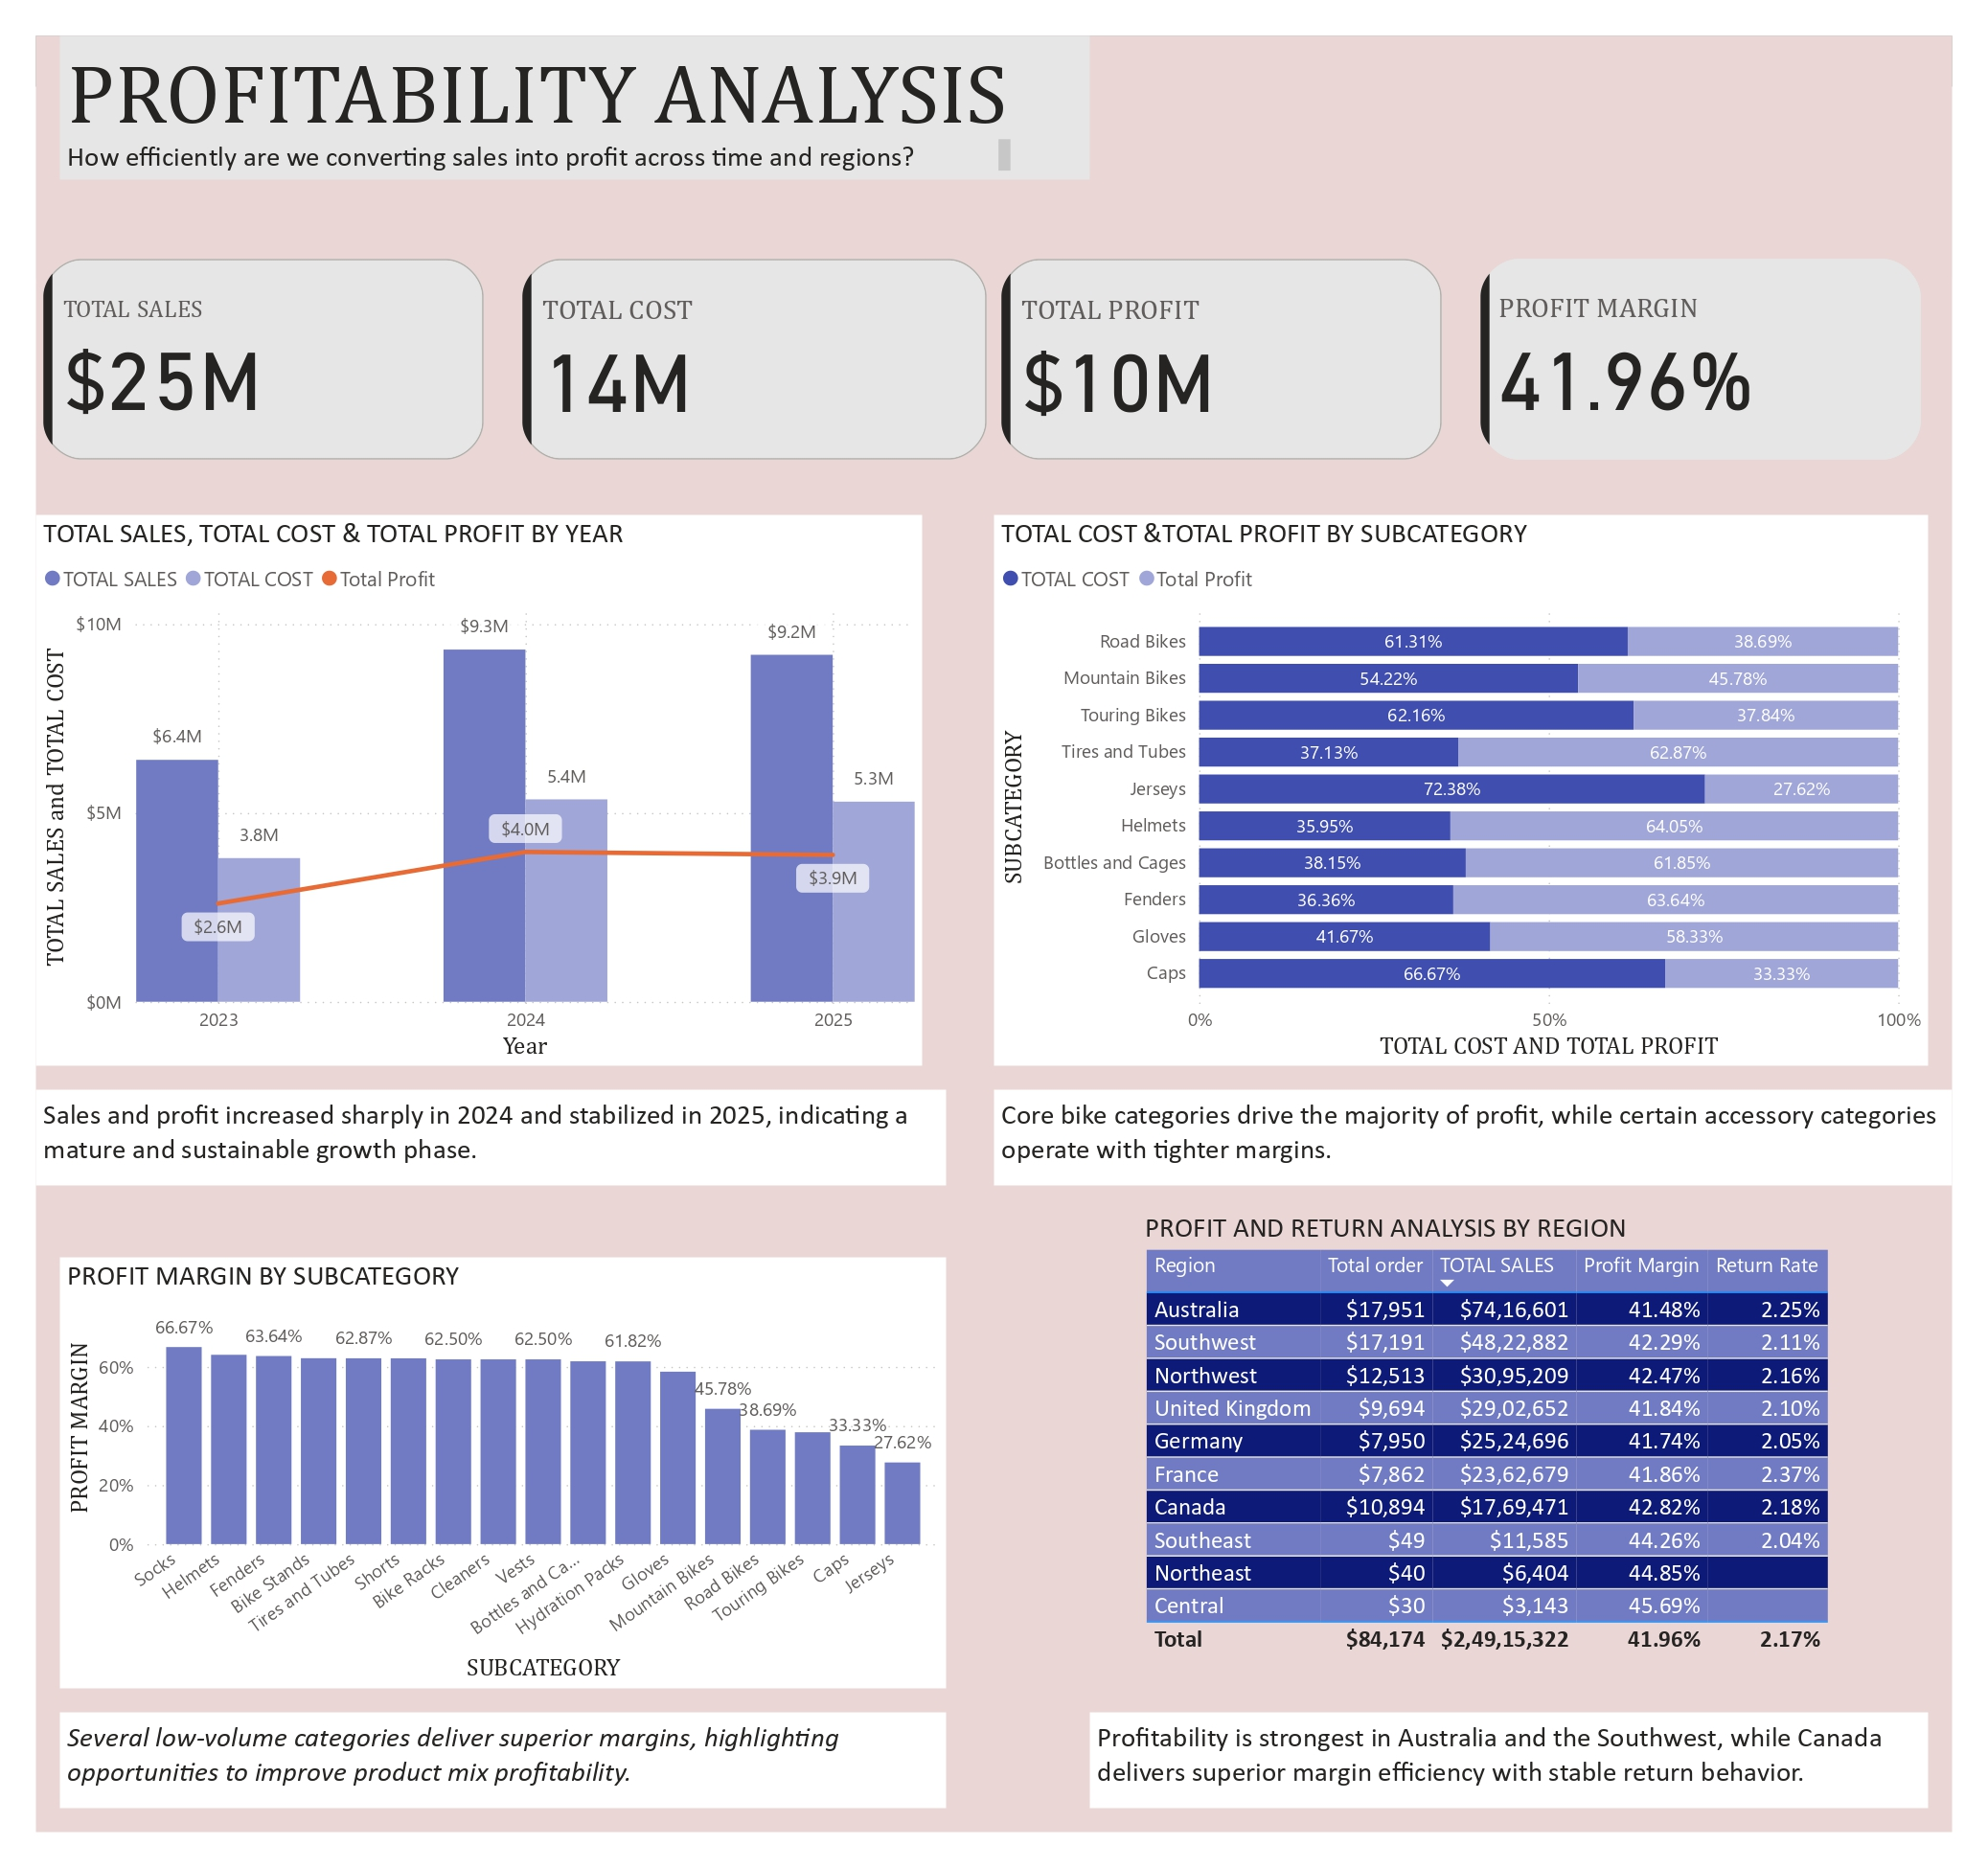

This screenshot's page, from the dashboard's own definition file:
{"tool":"powerbi","page":{"name":"Profitability Analysis","canvas":[1280,1200],"ordinal":5},"visuals":[{"type":"textbox","box":[16,0,688,96],"z":0},{"type":"cardVisual","fields":{"Data":["ALL MEASURES.Total Profit"]},"box":[640,144,304,144],"z":1000},{"type":"cardVisual","fields":{"Data":["ALL MEASURES.TOTAL COST"]},"box":[320,144,320,144],"z":2000},{"type":"cardVisual","fields":{"Data":["ALL MEASURES.TOTAL SALES"]},"box":[0,144,304,144],"z":3000},{"type":"cardVisual","fields":{"Data":["ALL MEASURES.Profit Margin"]},"box":[960,144,304,144],"z":4000},{"type":"lineClusteredColumnComboChart","title":"TOTAL SALES, TOTAL COST & TOTAL PROFIT BY YEAR","fields":{"Category":["Calendar Lookup (1) csv.Date.Variation.Date Hierarchy.Year"],"Y":["ALL MEASURES.TOTAL SALES","ALL MEASURES.TOTAL COST"],"Y2":["ALL MEASURES.Total Profit"]},"box":[0,320,592,368],"z":5000},{"type":"clusteredColumnChart","title":"PROFIT MARGIN BY SUBCATEGORY  ","fields":{"Y":["ALL MEASURES.Profit Margin"],"Category":["Product Subcategories Lookup.SubcategoryName"]},"box":[16,816,592,288],"z":6000},{"type":"hundredPercentStackedBarChart","title":"TOTAL COST &TOTAL PROFIT  BY SUBCATEGORY ","fields":{"Category":["Product Subcategories Lookup.SubcategoryName"],"Y":["ALL MEASURES.TOTAL COST","ALL MEASURES.Total Profit"]},"box":[640,320,624,368],"z":7000},{"type":"tableEx","title":"PROFIT AND RETURN ANALYSIS BY REGION","fields":{"Values":["Territory Lookup (1) csv.Region","ALL MEASURES.Total order","ALL MEASURES.TOTAL SALES","ALL MEASURES.Profit Margin","ALL MEASURES.Return Rate"]},"box":[736,784,496,336],"z":8000},{"type":"textbox","box":[0,704,608,64],"z":9000},{"type":"textbox","box":[640,704,640,64],"z":10000},{"type":"textbox","box":[16,1120,592,64],"z":11000},{"type":"textbox","box":[704,1120,560,64],"z":12000},{"type":"textbox","box":[16,64,640,32],"z":13000}]}

Visuals, with their boxes in screenshot pixels (x1, y1, x2, y2), scaled from the page's 1280x1200 canvas onto the 1988x1868 screenshot:
textbox: box=[25, 0, 1093, 149]
cardVisual - ALL MEASURES.Total Profit: box=[994, 224, 1466, 448]
cardVisual - ALL MEASURES.TOTAL COST: box=[497, 224, 994, 448]
cardVisual - ALL MEASURES.TOTAL SALES: box=[0, 224, 472, 448]
cardVisual - ALL MEASURES.Profit Margin: box=[1491, 224, 1963, 448]
"TOTAL SALES, TOTAL COST & TOTAL PROFIT BY YEAR" lineClusteredColumnComboChart: box=[0, 498, 920, 1071]
"PROFIT MARGIN BY SUBCATEGORY  " clusteredColumnChart: box=[25, 1270, 945, 1719]
"TOTAL COST &TOTAL PROFIT  BY SUBCATEGORY " hundredPercentStackedBarChart: box=[994, 498, 1963, 1071]
"PROFIT AND RETURN ANALYSIS BY REGION" tableEx: box=[1143, 1220, 1913, 1743]
textbox: box=[0, 1096, 945, 1196]
textbox: box=[994, 1096, 1987, 1196]
textbox: box=[25, 1743, 945, 1843]
textbox: box=[1093, 1743, 1963, 1843]
textbox: box=[25, 100, 1018, 149]
